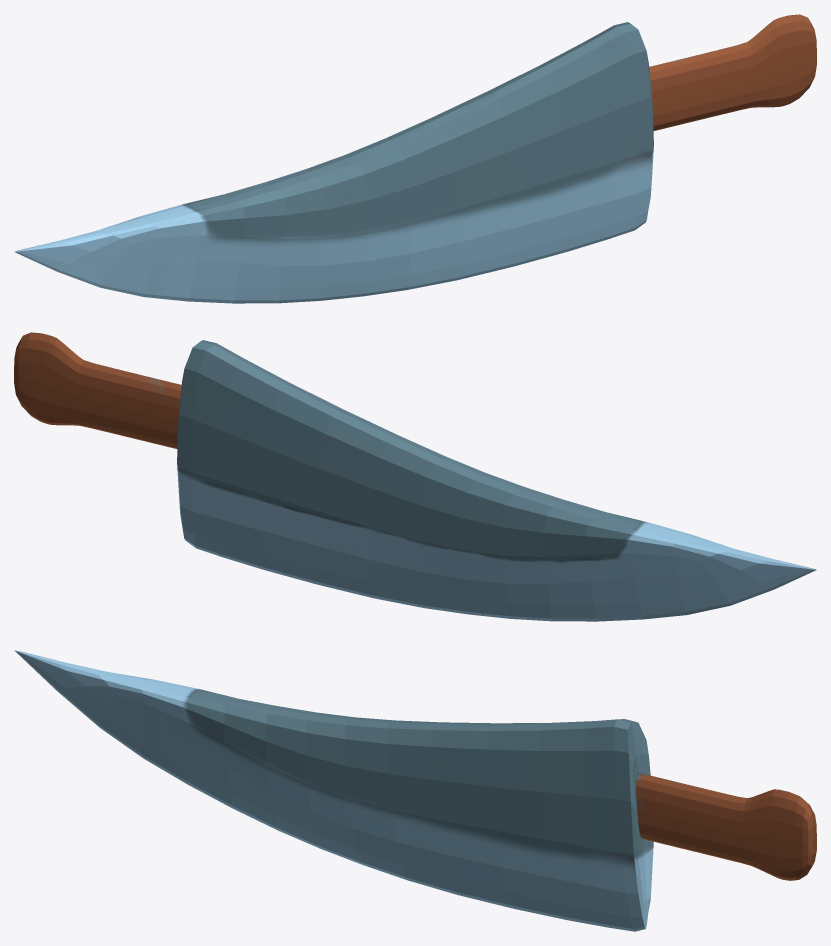
Rendered from knife.fbx.
3 views of the same model, one above another, from view 1: azimuth 30°, elevation 25°; view 2: azimuth 150°, elevation 25°; view 3: azimuth 330°, elevation 25° (orthographic).
Parts seen in each view (by area): view 1: Plane.001; view 2: Plane.001; view 3: Plane.001.
Boxes of the visible parts, x1=… form: Plane.001: x1=14, y1=14, x2=816, y2=303; Plane.001: x1=14, y1=332, x2=816, y2=621; Plane.001: x1=14, y1=650, x2=816, y2=931.
Bounding box in the file's own units: 410 × 105 × 19.46.
Materials: 1 (1 with a texture image).
